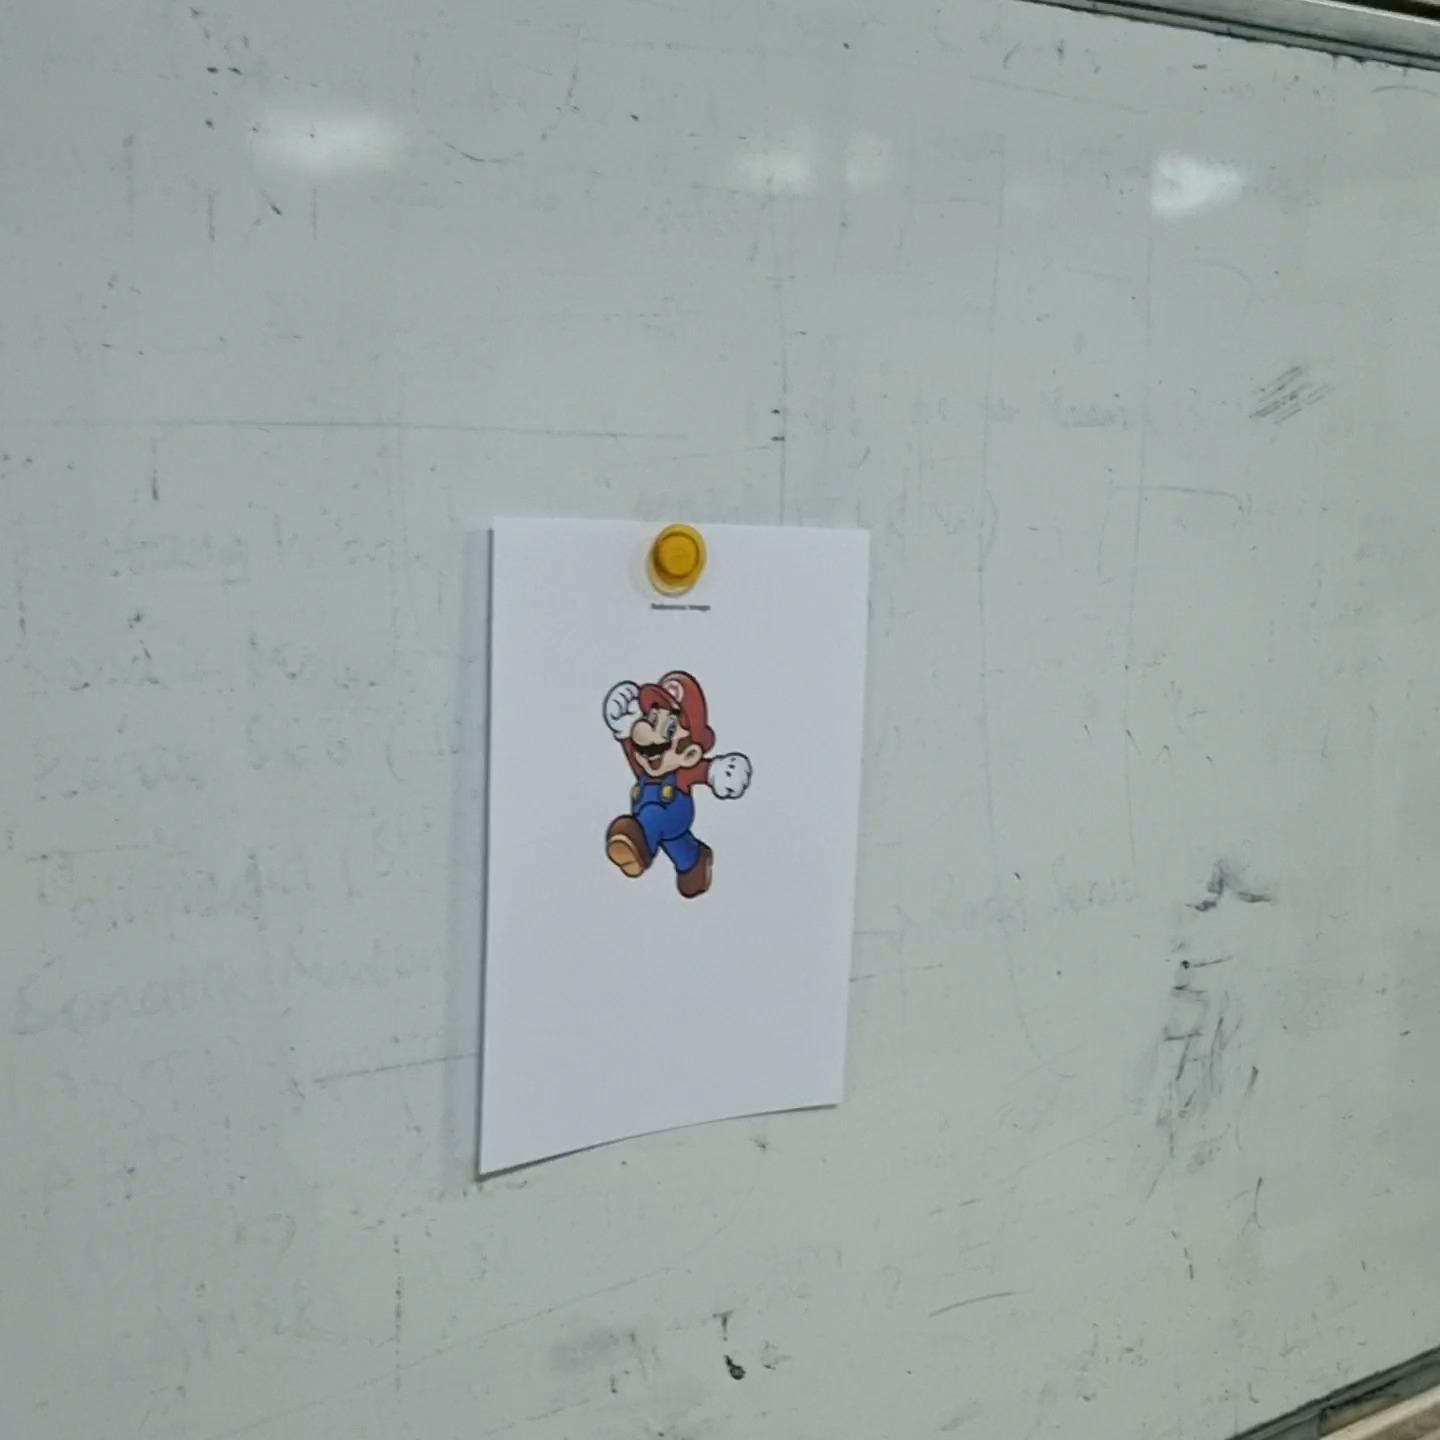mario: (587, 661, 765, 906)
